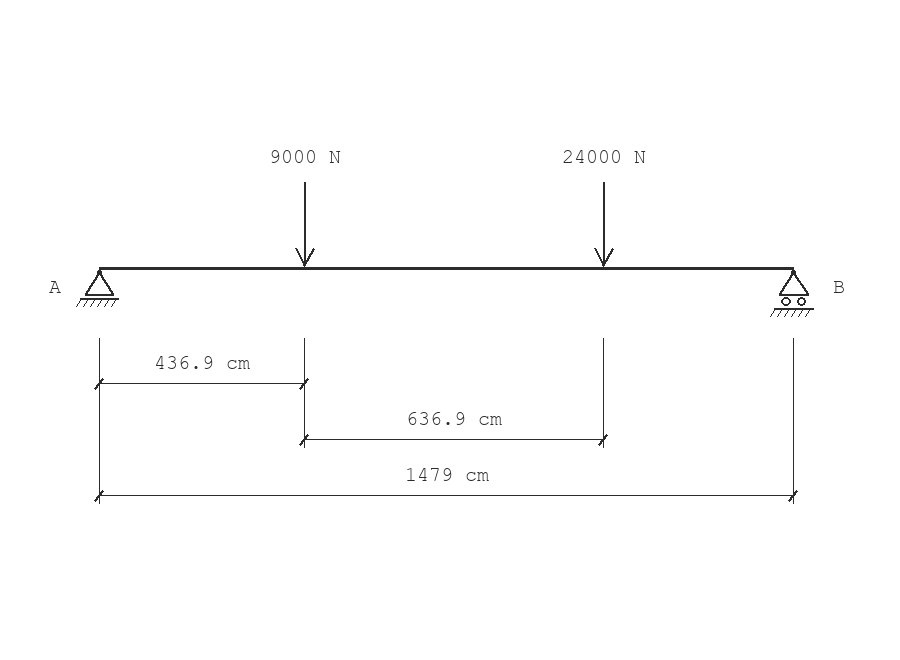pin_support: (76, 270, 119, 307)
point_load: (295, 182, 315, 267), (594, 182, 614, 267)
roller_support: (770, 270, 814, 317)
